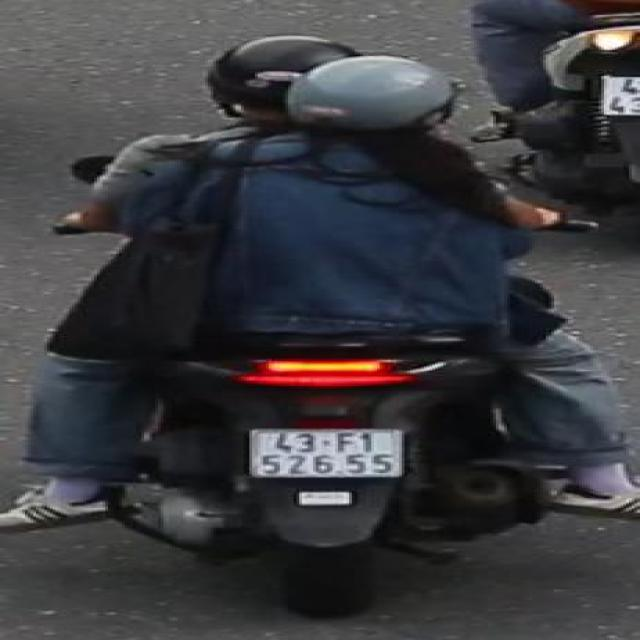LP: (245, 420, 414, 480)
helmet: (282, 54, 466, 170), (204, 31, 362, 126)
